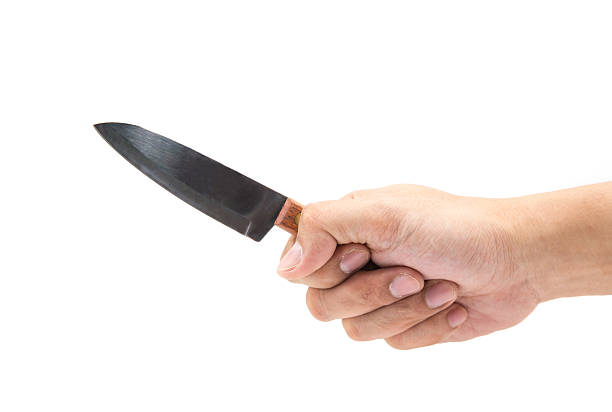knife: (92, 121, 305, 244)
